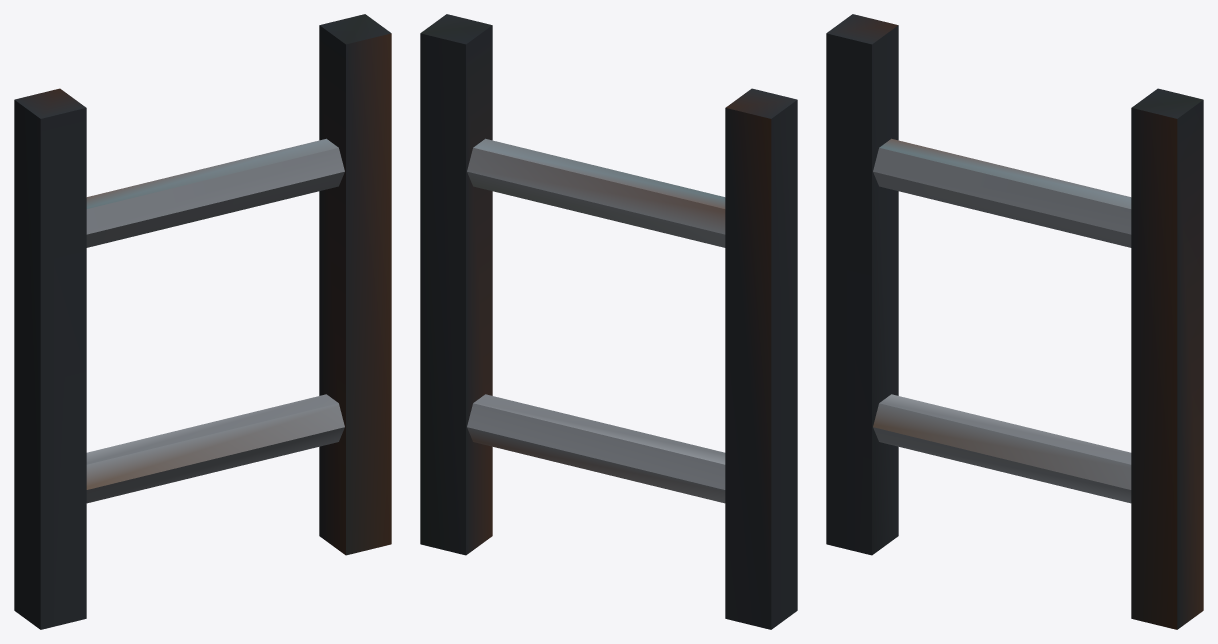
The model's file is ladder.glb.
3 views of the same model, side by side, from view 1: azimuth 30°, elevation 25°; view 2: azimuth 150°, elevation 25°; view 3: azimuth 330°, elevation 25° (orthographic).
Parts seen in each view (by area): view 1: ladder; view 2: ladder; view 3: ladder.
Boxes of the visible parts, bbox=[...] form: ladder: bbox=[14, 14, 391, 629]; ladder: bbox=[420, 14, 797, 629]; ladder: bbox=[826, 14, 1203, 629].
Size of the model in its own units: 23 by 32 by 3.
